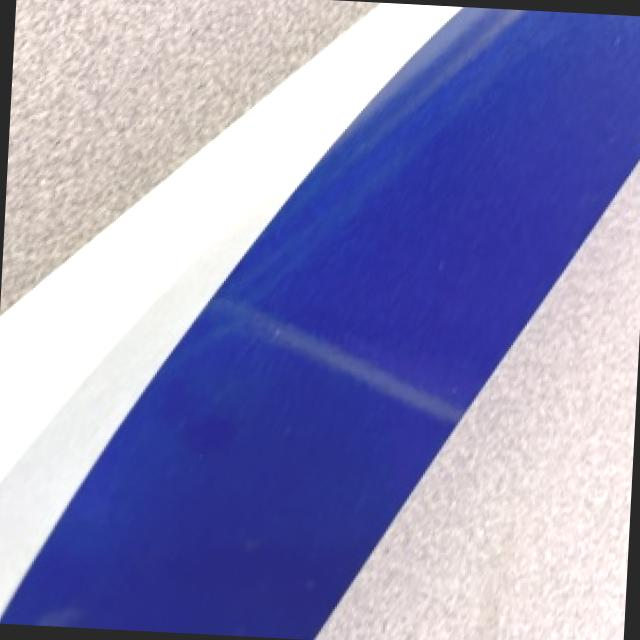healthy: (0, 3, 640, 638)
